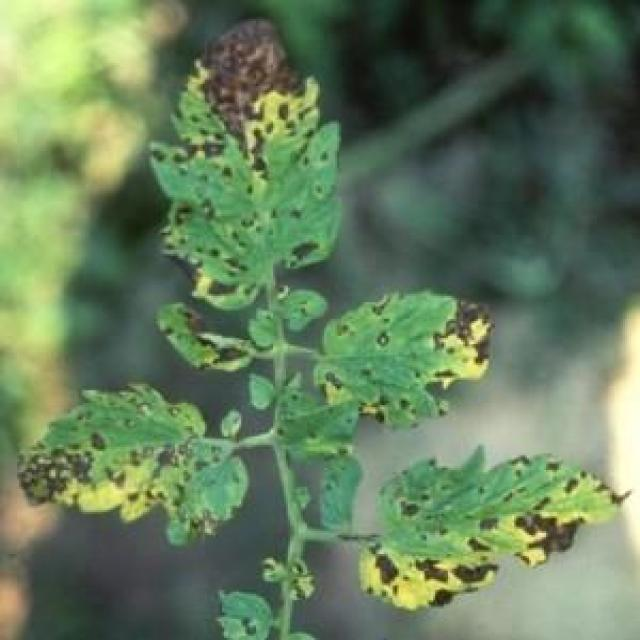Septoria: (147, 21, 363, 304), (345, 444, 638, 616), (4, 376, 252, 556), (314, 282, 499, 436), (147, 300, 256, 386)
